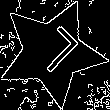L_SW: (23, 24, 81, 81)
